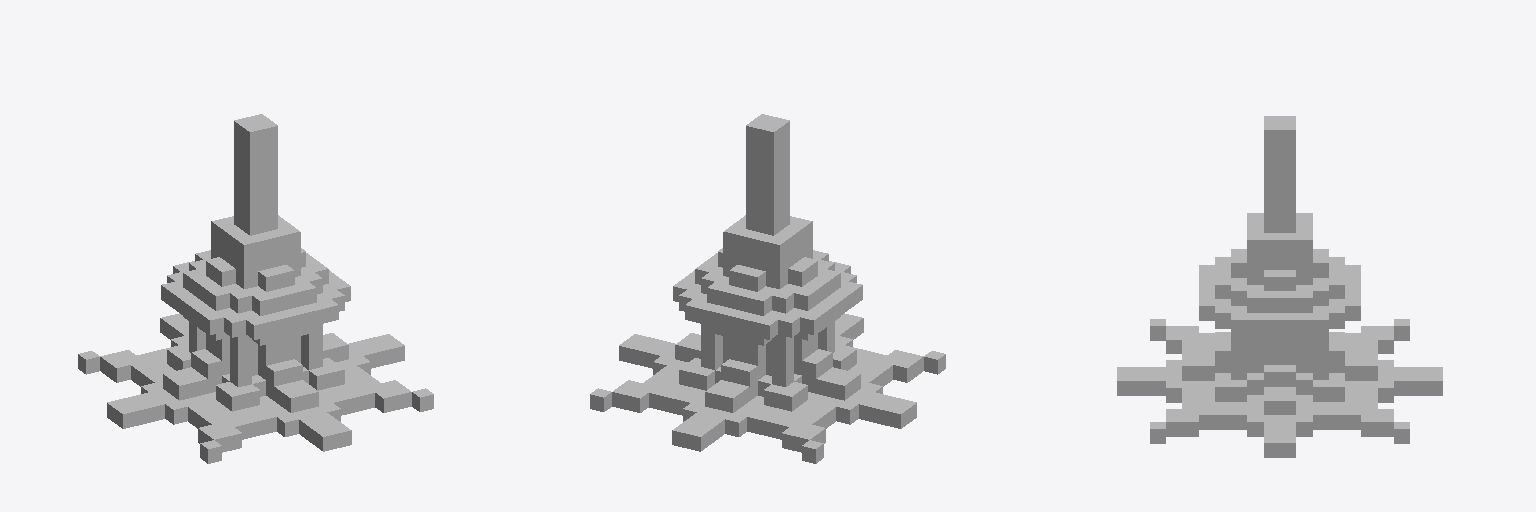
File: Frost_Base.obj
3 views of the same model, side by side, from view 1: azimuth 30°, elevation 25°; view 2: azimuth 150°, elevation 25°; view 3: azimuth 270°, elevation 25° (orthographic).
Visible parts, largest first — view 1: Frost_Base; view 2: Frost_Base; view 3: Frost_Base.
Part boxes in pixels (left/top/right/bottom): Frost_Base: left=78, top=114, right=433, bottom=463; Frost_Base: left=590, top=114, right=945, bottom=463; Frost_Base: left=1117, top=116, right=1442, bottom=457.
Size of the model in its own units: 20 by 18 by 20.